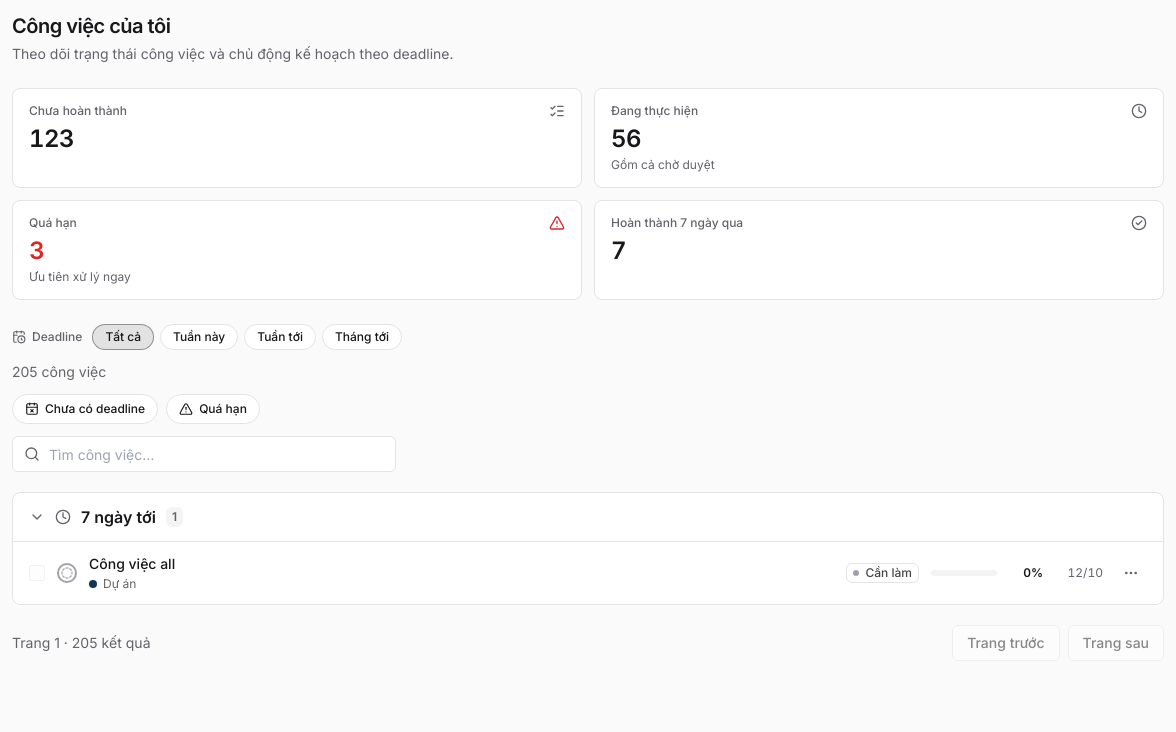
Test case: hides the old period while loading and provides a way back from an empty period
This screenshot has width=1176, height=732.
Click the button "Tháng tới": (362, 337) 322,324 -> 402,350
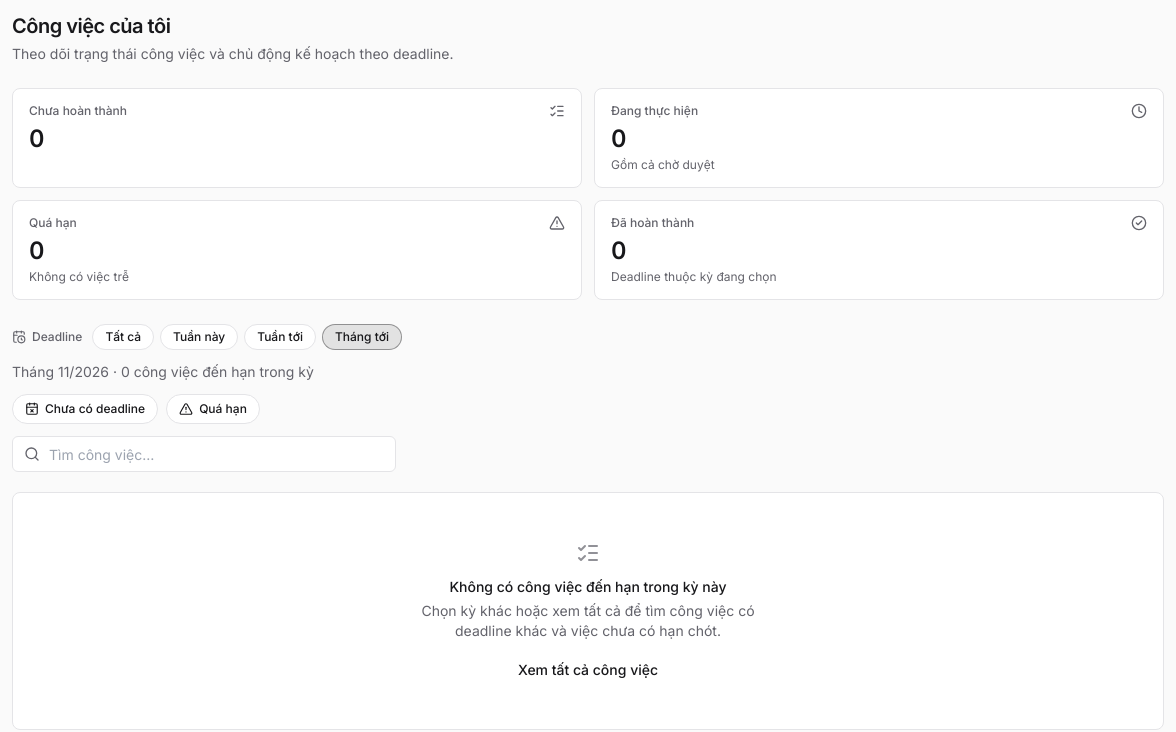
Check: the text "Công việc all" is gone
Check: the text "123" is gone
Check: the text "Không có công việc đến hạn trong kỳ này" is shown, box 449,577 -> 727,597
Click the button "Xem tất cả công việc": (588, 670) 518,660 -> 658,680
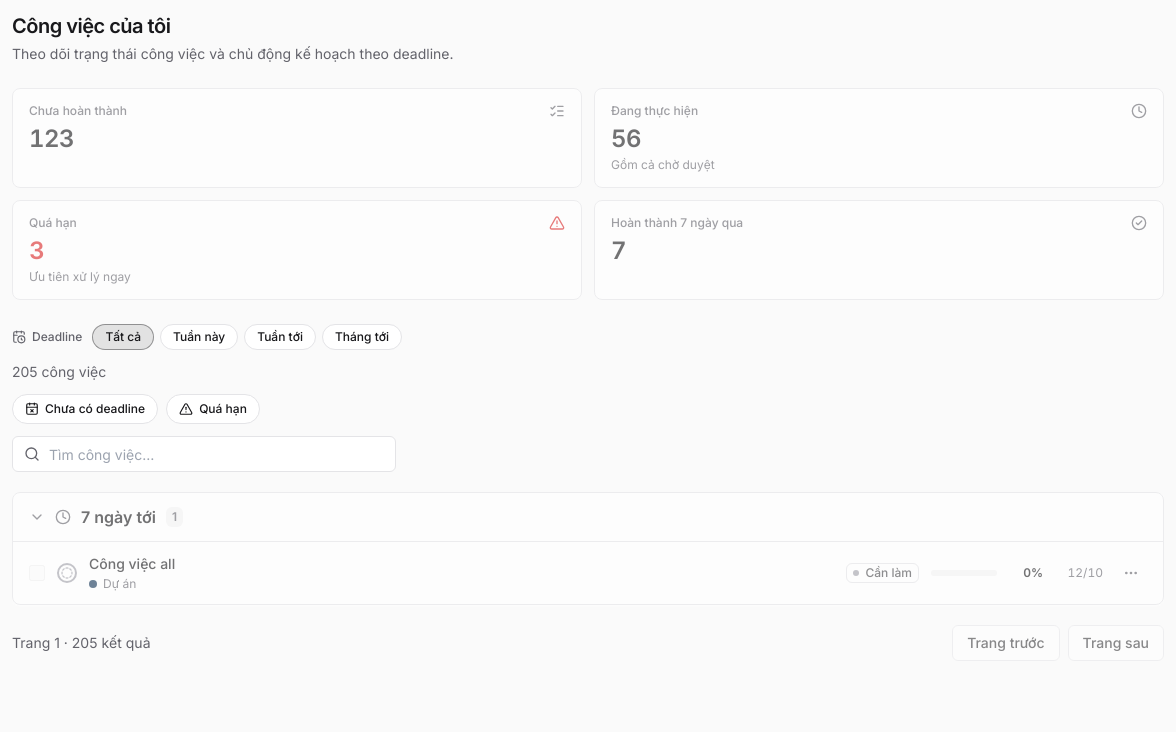
Check: the text "Công việc all" is shown, box 89,555 -> 175,572
